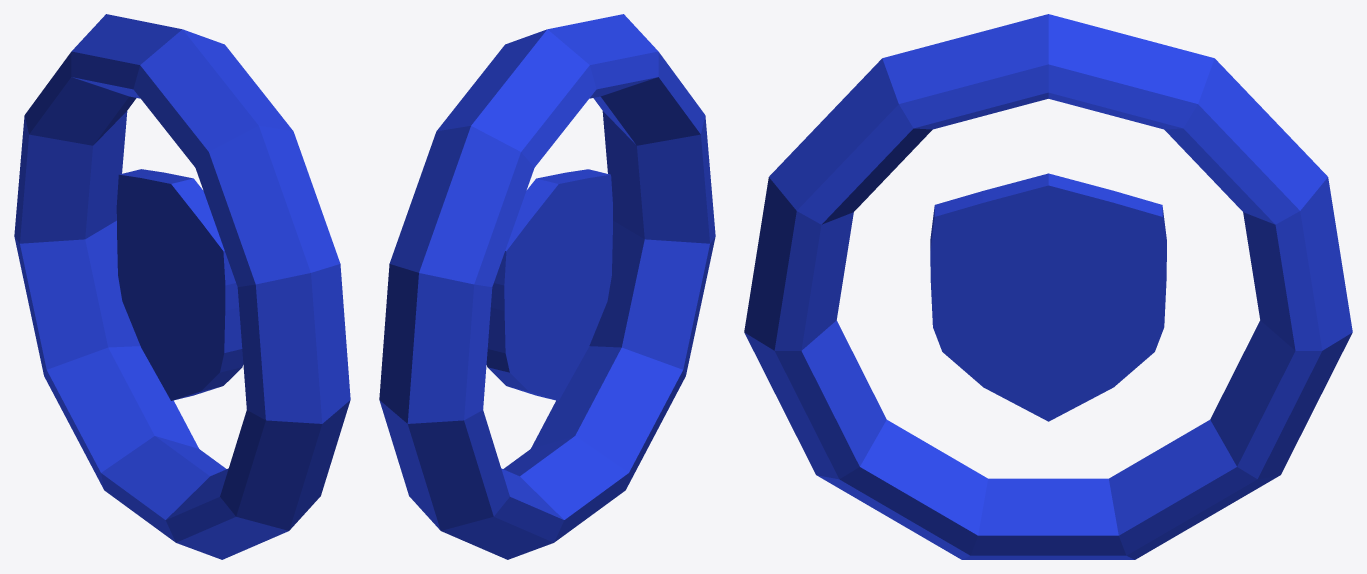
File: ShieldPickUp.fbx
3 renders of one model, left to right at view 1: azimuth 30°, elevation 25°; view 2: azimuth 150°, elevation 25°; view 3: azimuth 270°, elevation 25°, orthographic. The views are drawn at different scales.
Parts seen in each view (by area): view 1: ShieldPickUp; view 2: ShieldPickUp; view 3: ShieldPickUp.
Boxes of the visible parts, x1,y1,x2,y2 form: ShieldPickUp: (14,14,350,559); ShieldPickUp: (379,14,715,559); ShieldPickUp: (744,14,1352,559).
Bounding box in the file's own units: 74.15 × 361 × 365.
